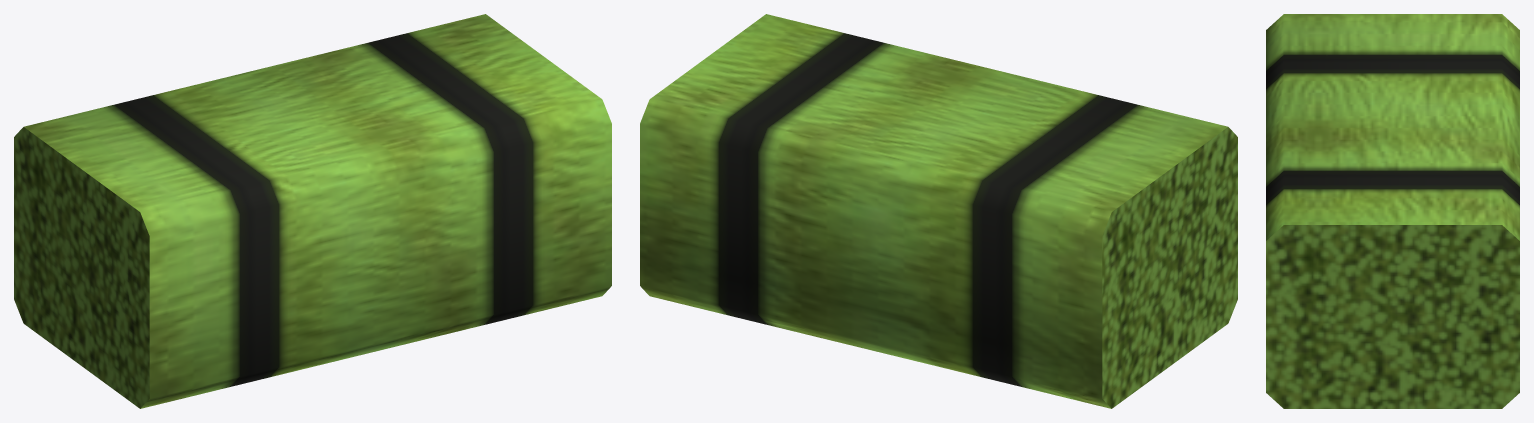
Rendered from grass_pack.fbx.
3 views of the same model, side by side, from view 1: azimuth 30°, elevation 25°; view 2: azimuth 150°, elevation 25°; view 3: azimuth 270°, elevation 25° (orthographic). The views are drawn at different scales.
Visible parts, largest first — view 1: frame.001; view 2: frame.001; view 3: frame.001.
Part boxes in pixels (bbox=[...]): frame.001: bbox=[14, 14, 611, 408]; frame.001: bbox=[640, 14, 1237, 408]; frame.001: bbox=[1266, 14, 1519, 408].
Bounding box in the file's own units: 0.9328 × 0.3795 × 0.4741.
1 material, 1 textured.
